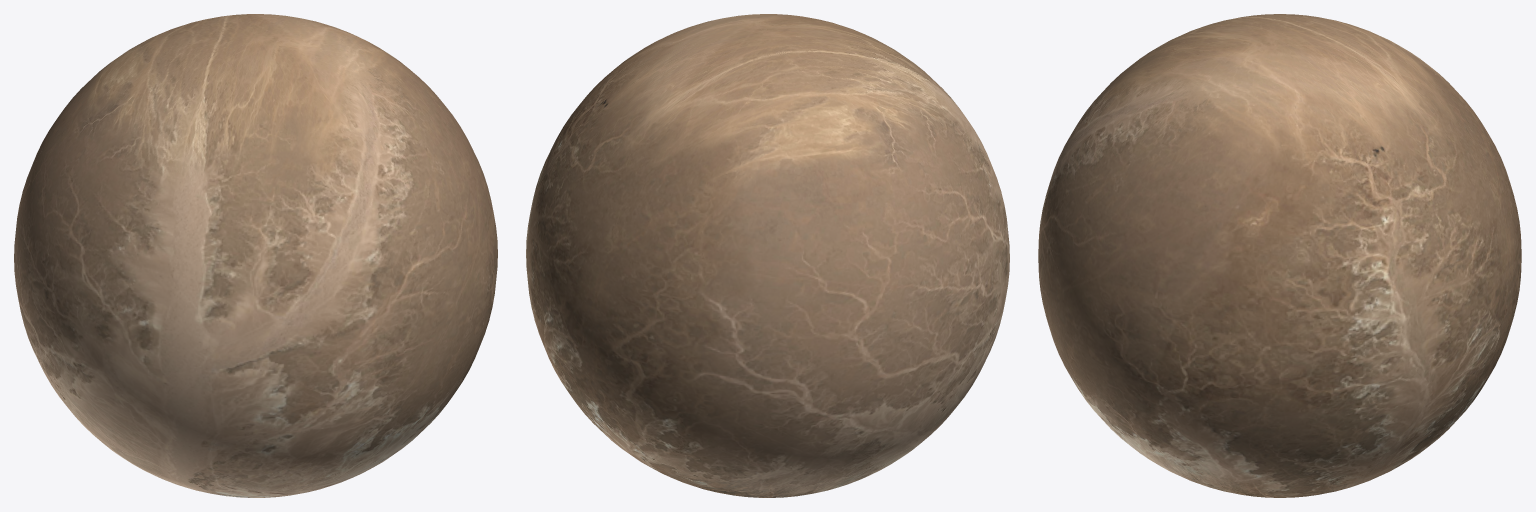
Rendered from MyPlanet.obj.
3 renders of one model, left to right at view 1: azimuth 30°, elevation 25°; view 2: azimuth 150°, elevation 25°; view 3: azimuth 270°, elevation 25°, orthographic.
Parts seen in each view (by area): view 1: pSphere1; view 2: pSphere1; view 3: pSphere1.
Part boxes in pixels (bbox=[...]): pSphere1: bbox=[14, 14, 497, 497]; pSphere1: bbox=[526, 14, 1009, 497]; pSphere1: bbox=[1038, 14, 1521, 497].
Size of the model in its own units: 5.6 by 5.6 by 5.59.
